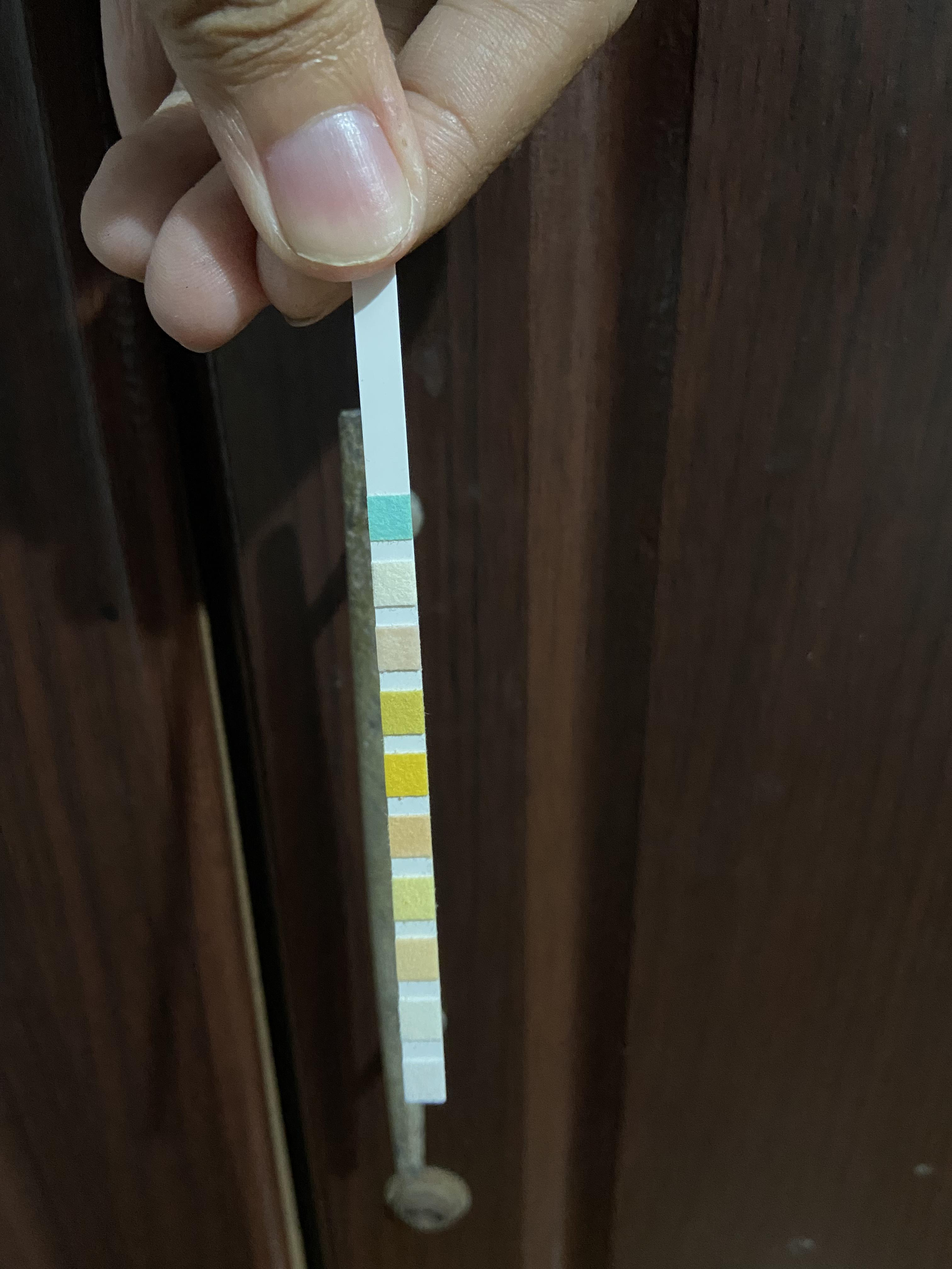Bilirubin: (376, 566, 411, 603)
Blood: (388, 756, 424, 794)
Glucose: (372, 499, 407, 536)
Ketone: (380, 629, 418, 666)
Leukocytes: (406, 1061, 443, 1099)
Nitrite: (403, 1001, 440, 1038)
Protein: (396, 881, 432, 918)
SpGravity: (385, 694, 421, 733)
Urobilinogen: (400, 942, 436, 979)
pH: (393, 818, 428, 855)
strip: (356, 289, 446, 1103)
